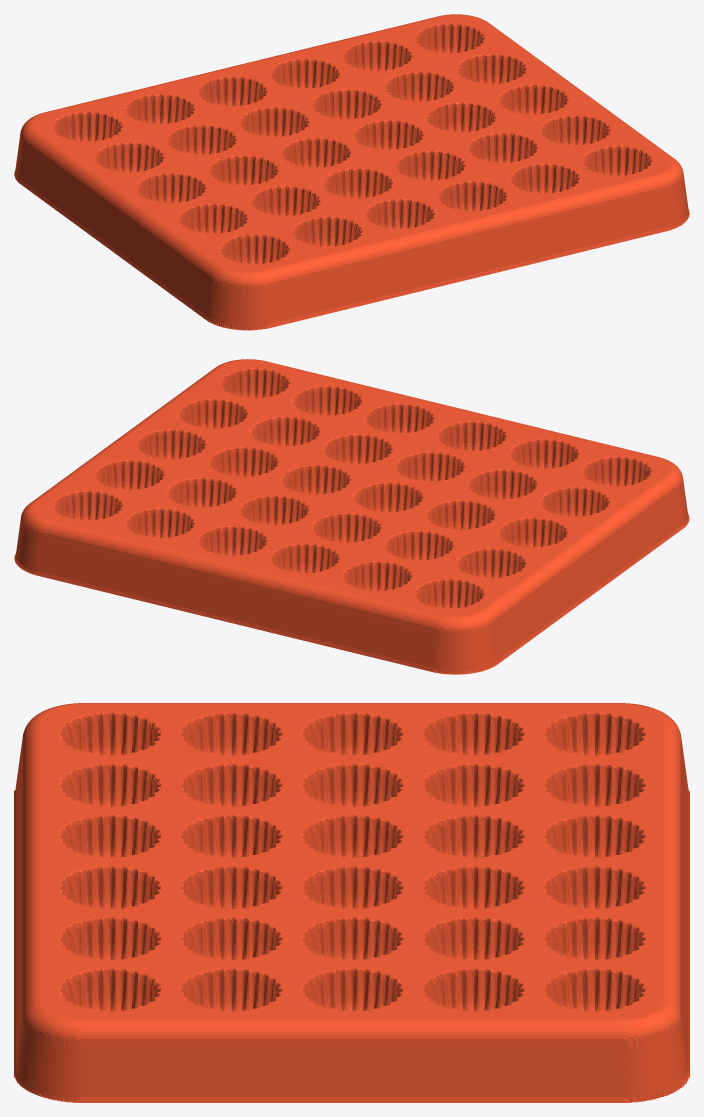
File: mold.glb
3 renders of one model, top to bottom at view 1: azimuth 30°, elevation 25°; view 2: azimuth 150°, elevation 25°; view 3: azimuth 270°, elevation 25°, orthographic. The views are drawn at different scales.
Visible parts, largest first — view 1: geometry_0; view 2: geometry_0; view 3: geometry_0.
Boxes of the visible parts, x1,y1,x2,y2 form: geometry_0: [14, 14, 689, 330]; geometry_0: [14, 359, 689, 674]; geometry_0: [14, 703, 689, 1102].
Size of the model in its own units: 0.104 by 0.0105 by 0.0882.
